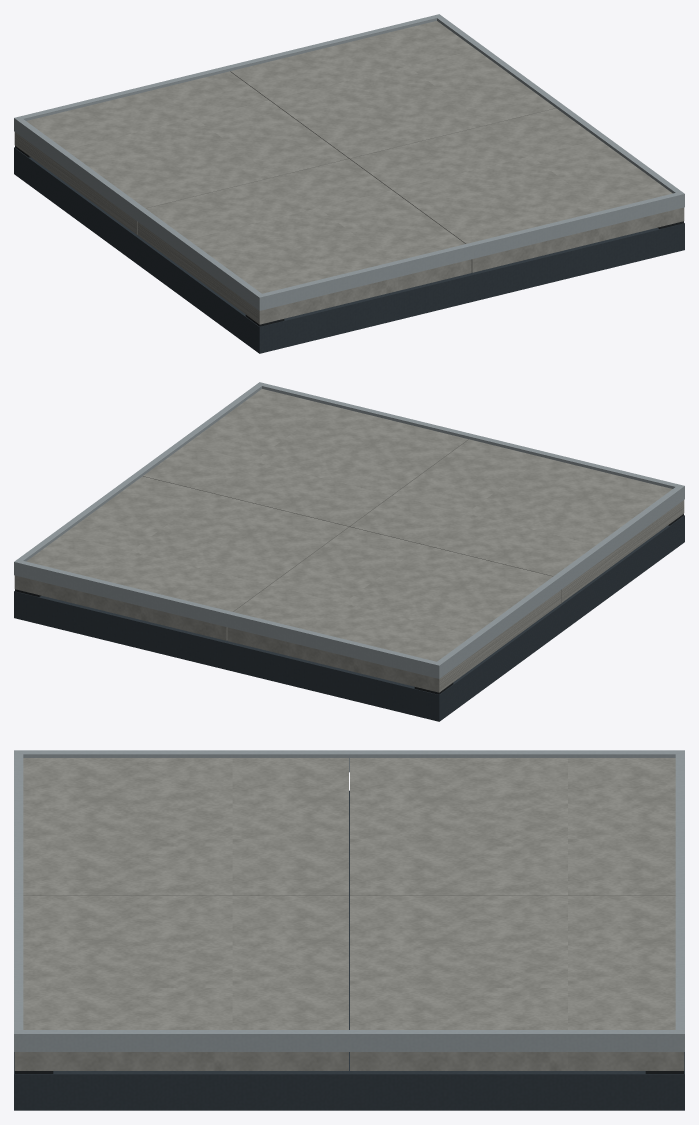
The model's file is PROJECT_Z_Office_Tower_04_Repeatable_4x4m_FloorPlate_Runtime.glb.
3 renders of one model, top to bottom at view 1: azimuth 30°, elevation 25°; view 2: azimuth 150°, elevation 25°; view 3: azimuth 270°, elevation 25°, orthographic. The views are drawn at different scales.
Parts seen in each view (by area): view 1: SM_M04_Repeatable_4x4m_FloorPlate__Concrete_Deck_Tile_1_1, SM_M04_Repeatable_4x4m_FloorPlate__Concrete_Deck_Tile_2_1, SM_M04_Repeatable_4x4m_FloorPlate__Concrete_Deck_Tile_1_2, SM_M04_Repeatable_4x4m_FloorPlate__Concrete_Deck_Tile_2_2, SM_M04_Repeatable_4x4m_FloorPlate__BATCH_STRUCTURAL_BEAM_M_G, SM_M04_Repeatable_4x4m_FloorPlate__BATCH_EDGE_TRIM_M_Galvani; view 2: SM_M04_Repeatable_4x4m_FloorPlate__Concrete_Deck_Tile_1_2, SM_M04_Repeatable_4x4m_FloorPlate__Concrete_Deck_Tile_2_2, SM_M04_Repeatable_4x4m_FloorPlate__Concrete_Deck_Tile_1_1, SM_M04_Repeatable_4x4m_FloorPlate__Concrete_Deck_Tile_2_1, SM_M04_Repeatable_4x4m_FloorPlate__BATCH_STRUCTURAL_BEAM_M_G, SM_M04_Repeatable_4x4m_FloorPlate__BATCH_EDGE_TRIM_M_Galvani; view 3: SM_M04_Repeatable_4x4m_FloorPlate__Concrete_Deck_Tile_2_2, SM_M04_Repeatable_4x4m_FloorPlate__Concrete_Deck_Tile_2_1, SM_M04_Repeatable_4x4m_FloorPlate__Concrete_Deck_Tile_1_2, SM_M04_Repeatable_4x4m_FloorPlate__Concrete_Deck_Tile_1_1, SM_M04_Repeatable_4x4m_FloorPlate__BATCH_STRUCTURAL_BEAM_M_G, SM_M04_Repeatable_4x4m_FloorPlate__BATCH_EDGE_TRIM_M_Galvani.
Boxes of the visible parts, x1=… form: SM_M04_Repeatable_4x4m_FloorPlate__Concrete_Deck_Tile_1_1: x1=137, y1=159, x2=471, y2=324; SM_M04_Repeatable_4x4m_FloorPlate__Concrete_Deck_Tile_2_1: x1=350, y1=108, x2=684, y2=272; SM_M04_Repeatable_4x4m_FloorPlate__Concrete_Deck_Tile_1_2: x1=14, y1=71, x2=348, y2=234; SM_M04_Repeatable_4x4m_FloorPlate__Concrete_Deck_Tile_2_2: x1=230, y1=21, x2=555, y2=158; SM_M04_Repeatable_4x4m_FloorPlate__BATCH_STRUCTURAL_BEAM_M_G: x1=14, y1=147, x2=684, y2=353; SM_M04_Repeatable_4x4m_FloorPlate__BATCH_EDGE_TRIM_M_Galvani: x1=14, y1=14, x2=684, y2=310; SM_M04_Repeatable_4x4m_FloorPlate__Concrete_Deck_Tile_1_2: x1=227, y1=527, x2=561, y2=692; SM_M04_Repeatable_4x4m_FloorPlate__Concrete_Deck_Tile_2_2: x1=14, y1=476, x2=348, y2=640; SM_M04_Repeatable_4x4m_FloorPlate__Concrete_Deck_Tile_1_1: x1=350, y1=439, x2=684, y2=602; SM_M04_Repeatable_4x4m_FloorPlate__Concrete_Deck_Tile_2_1: x1=143, y1=389, x2=468, y2=526; SM_M04_Repeatable_4x4m_FloorPlate__BATCH_STRUCTURAL_BEAM_M_G: x1=14, y1=515, x2=684, y2=721; SM_M04_Repeatable_4x4m_FloorPlate__BATCH_EDGE_TRIM_M_Galvani: x1=14, y1=382, x2=684, y2=678; SM_M04_Repeatable_4x4m_FloorPlate__Concrete_Deck_Tile_2_2: x1=350, y1=896, x2=684, y2=1070; SM_M04_Repeatable_4x4m_FloorPlate__Concrete_Deck_Tile_2_1: x1=14, y1=896, x2=348, y2=1070; SM_M04_Repeatable_4x4m_FloorPlate__Concrete_Deck_Tile_1_2: x1=350, y1=758, x2=675, y2=895; SM_M04_Repeatable_4x4m_FloorPlate__Concrete_Deck_Tile_1_1: x1=23, y1=758, x2=348, y2=895; SM_M04_Repeatable_4x4m_FloorPlate__BATCH_STRUCTURAL_BEAM_M_G: x1=14, y1=790, x2=684, y2=1110; SM_M04_Repeatable_4x4m_FloorPlate__BATCH_EDGE_TRIM_M_Galvani: x1=14, y1=750, x2=684, y2=1051.
Bounding box in the file's own units: 4 × 0.505 × 4.
4 materials, 4 textured.
